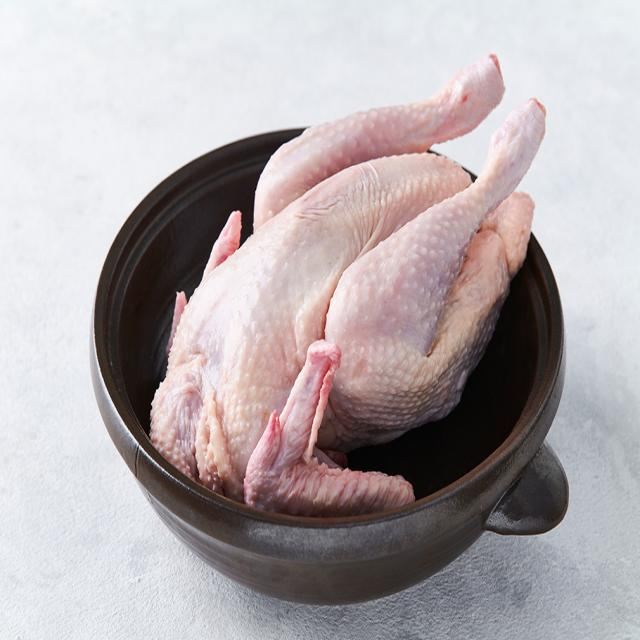chicken: (132, 42, 584, 515)
